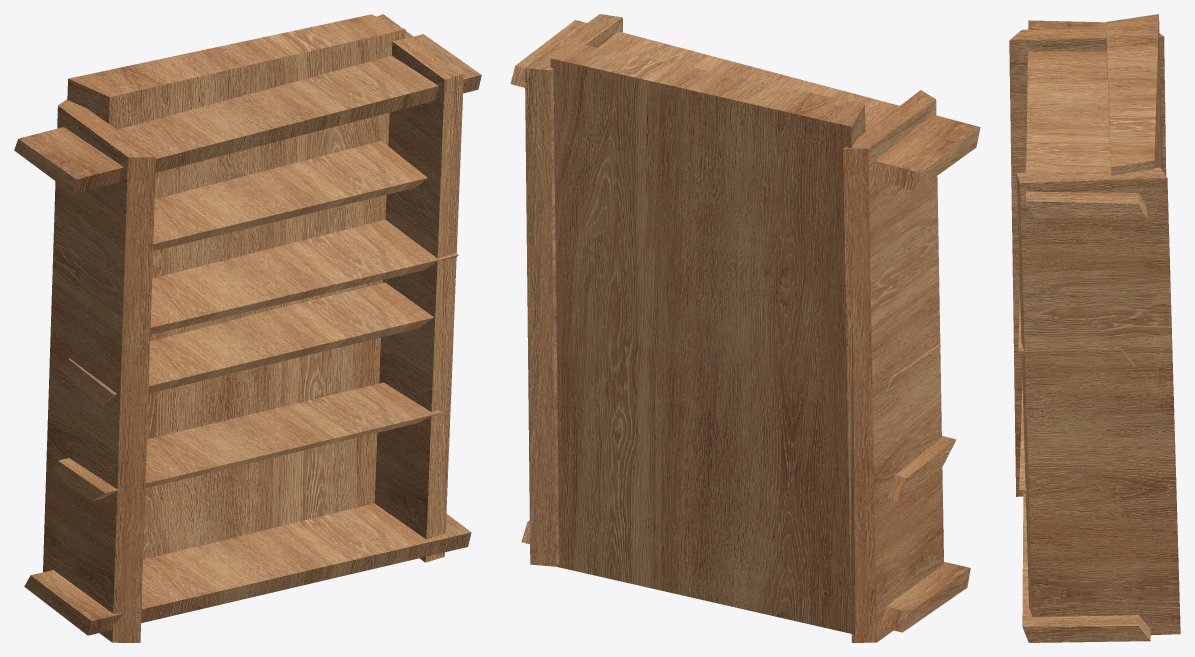
The model's file is 46553_ours.glb.
The picture shows the model from 3 angles, left to right: view 1: azimuth 30°, elevation 25°; view 2: azimuth 150°, elevation 25°; view 3: azimuth 270°, elevation 25°; orthographic projection. The views are drawn at different scales.
Visible parts, largest first — view 1: ParentEmpty; view 2: ParentEmpty; view 3: ParentEmpty.
Part boxes in pixels (left/top/right/bottom): ParentEmpty: left=14, top=14, right=481, bottom=642; ParentEmpty: left=510, top=14, right=980, bottom=642; ParentEmpty: left=1009, top=14, right=1180, bottom=642.
Bounding box in the file's own units: 0.8328 × 1 × 0.3209.
1 material, 1 textured.
